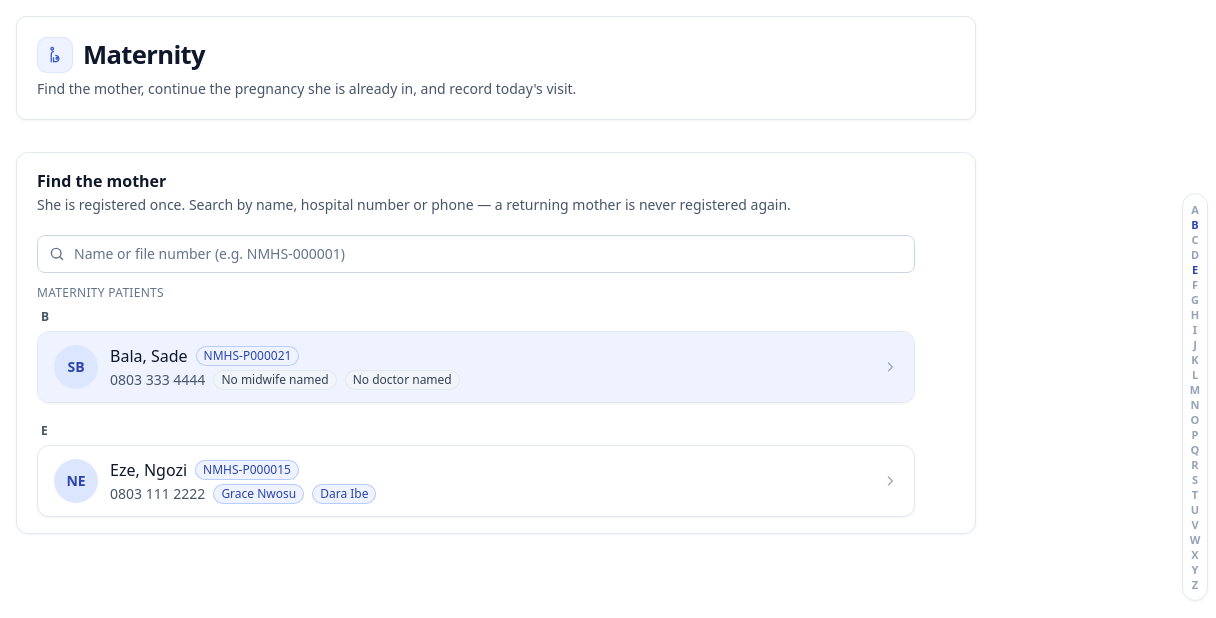
typing in the picker › finds her by hospital number too
Type "NMHS-P000021" into the dropdown named "Search maternity patients" at (476, 254), box x1=37 y1=235 x2=915 y2=273
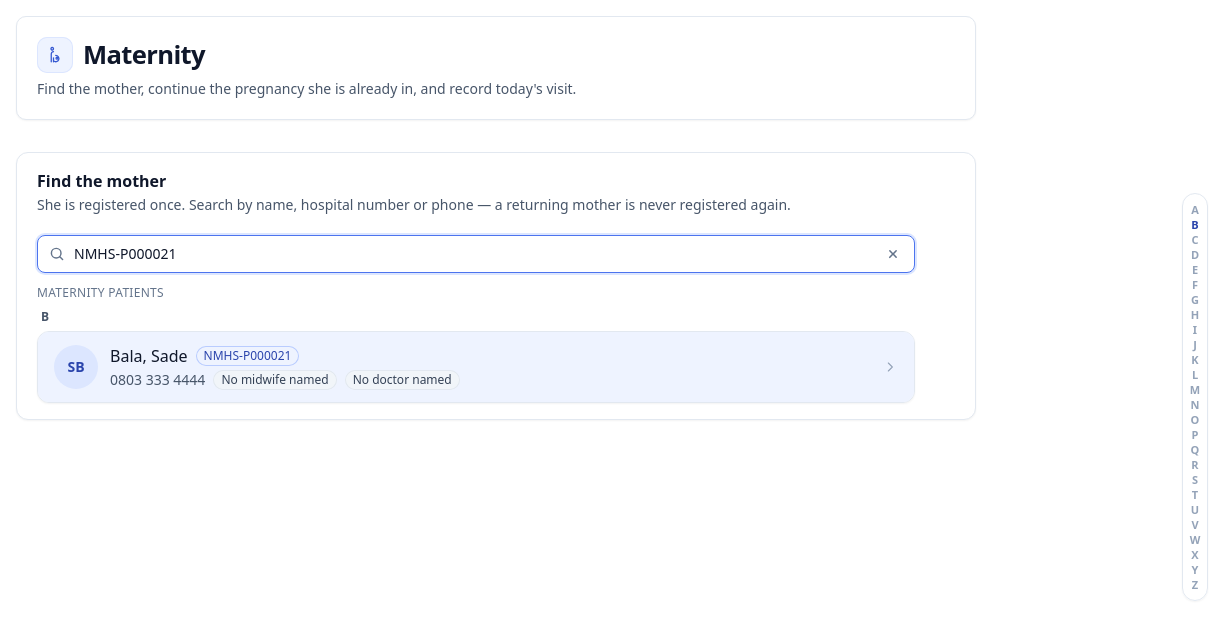
Check: the option "Bala, Sade" is shown, box x1=38 y1=332 x2=914 y2=402
Check: the option "Eze, Ngozi" is gone
